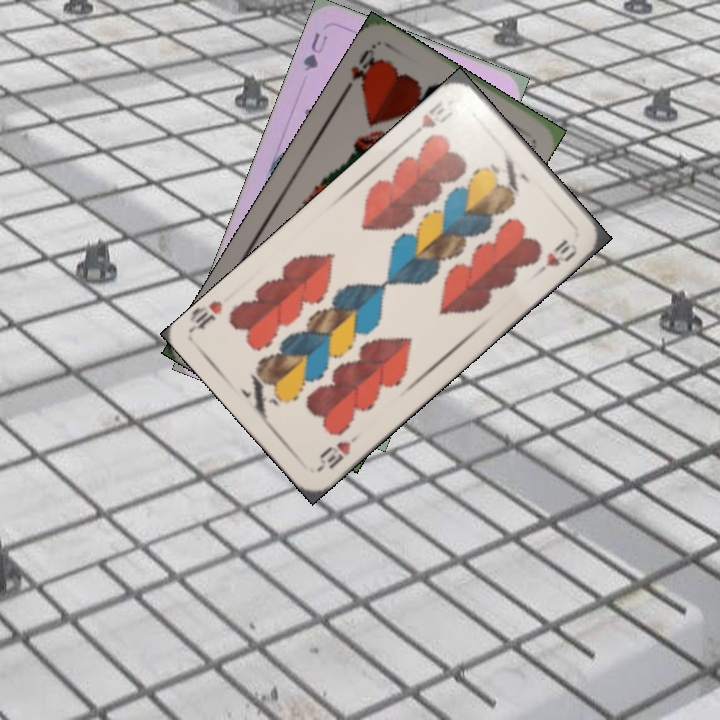GU: (299, 28, 331, 74)
H10: (314, 429, 363, 474), (406, 96, 456, 140)
HO: (340, 42, 383, 95)
